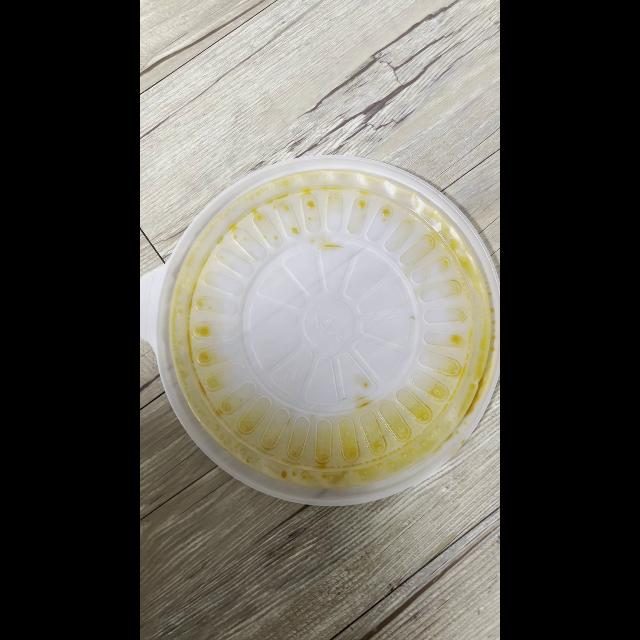dirty: (160, 158, 496, 496)
